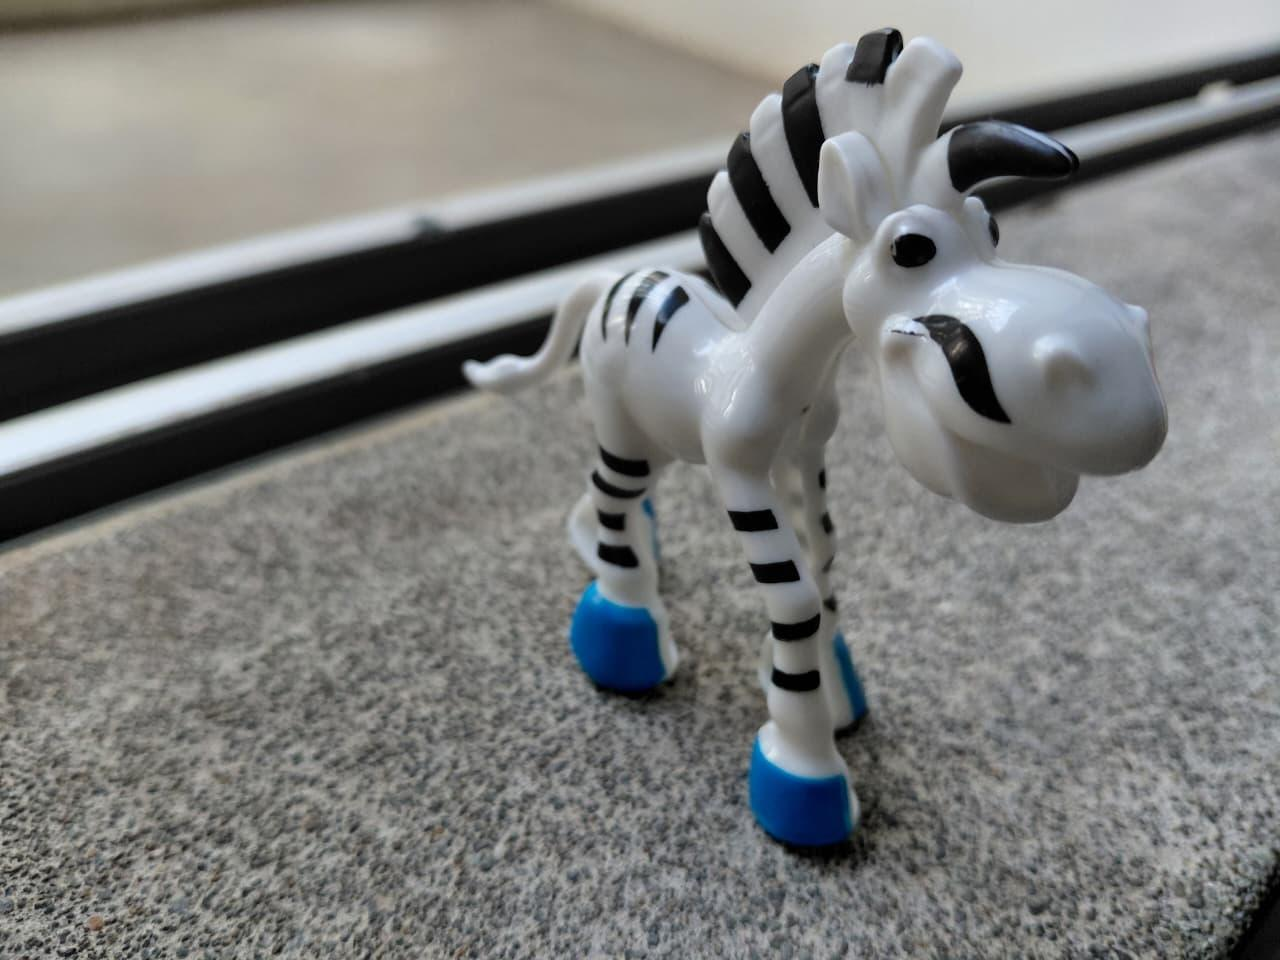zebra: (440, 12, 1181, 880)
